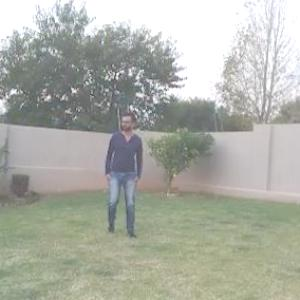follow: (99, 104, 147, 242)
